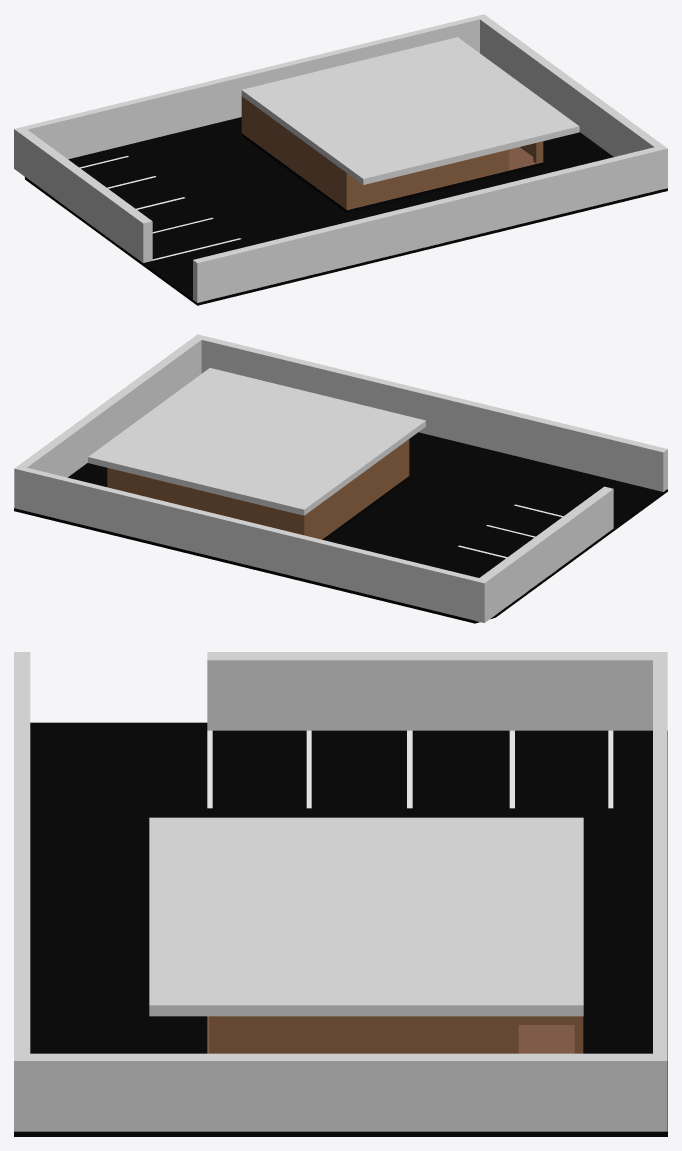
File: Music Bar.fbx
3 renders of one model, top to bottom at view 1: azimuth 30°, elevation 25°; view 2: azimuth 150°, elevation 25°; view 3: azimuth 270°, elevation 25°, orthographic. The views are drawn at different scales.
Parts seen in each view (by area): view 1: Ext Walls, Ground, Roof, Structure; view 2: Ext Walls, Roof, Ground, Structure; view 3: Ground, Ext Walls, Roof, Structure.
Part boxes in pixels (x1=…): Ext Walls: x1=14, y1=14, x2=667, y2=302; Ground: x1=24, y1=117, x2=667, y2=305; Roof: x1=241, y1=37, x2=579, y2=184; Structure: x1=241, y1=96, x2=543, y2=209; Ext Walls: x1=14, y1=334, x2=667, y2=622; Roof: x1=88, y1=368, x2=425, y2=515; Ground: x1=14, y1=432, x2=667, y2=623; Structure: x1=107, y1=439, x2=409, y2=539; Ground: x1=14, y1=722, x2=667, y2=1136; Ext Walls: x1=14, y1=652, x2=667, y2=1131; Roof: x1=149, y1=817, x2=583, y2=1016; Structure: x1=209, y1=1016, x2=583, y2=1053.
Bounding box in the file's own units: 3057 × 305 × 2066.
